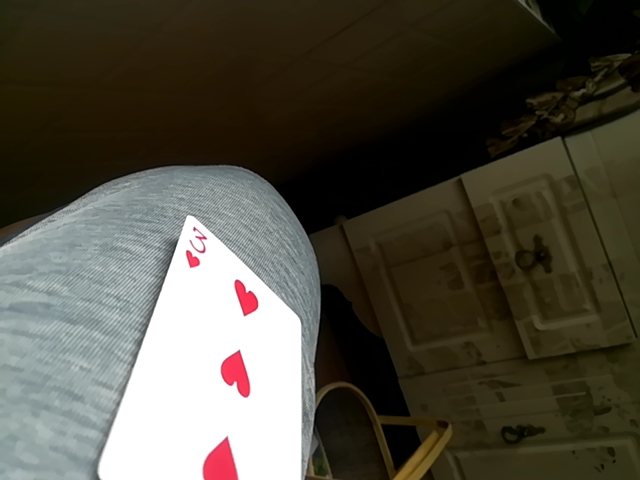hx 3: (86, 216, 311, 480)
